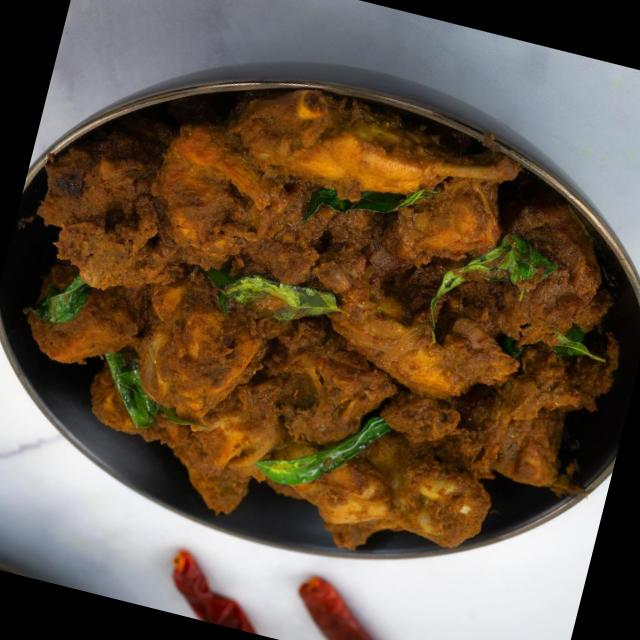chicken: (0, 67, 639, 546)
